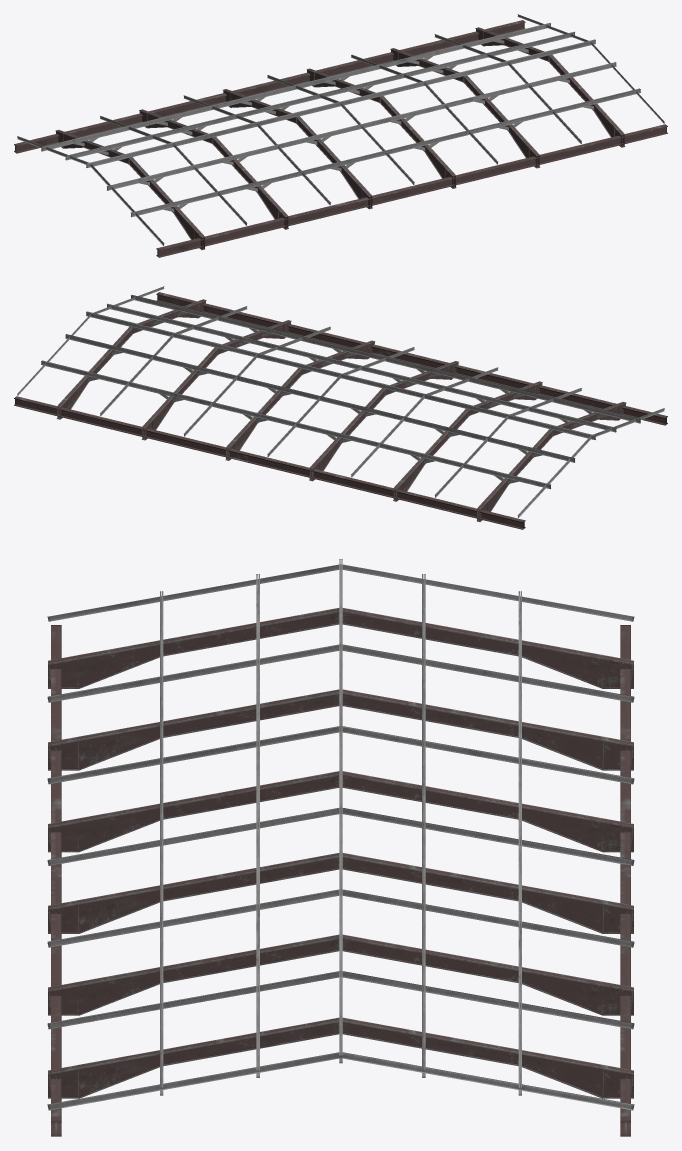
File: SM_set_c.fbx
The picture shows the model from 3 angles, top to bottom: view 1: azimuth 30°, elevation 25°; view 2: azimuth 150°, elevation 25°; view 3: azimuth 270°, elevation 25°; orthographic projection. The views are drawn at different scales.
Parts seen in each view (by area): view 1: SM_set_c; view 2: SM_set_c; view 3: SM_set_c.
Boxes of the visible parts, left/top/right/bottom form: SM_set_c: left=14, top=14, right=667, bottom=257; SM_set_c: left=14, top=286, right=667, bottom=529; SM_set_c: left=47, top=559, right=634, bottom=1136.
Size of the model in its own units: 4061 by 327 by 2027.
